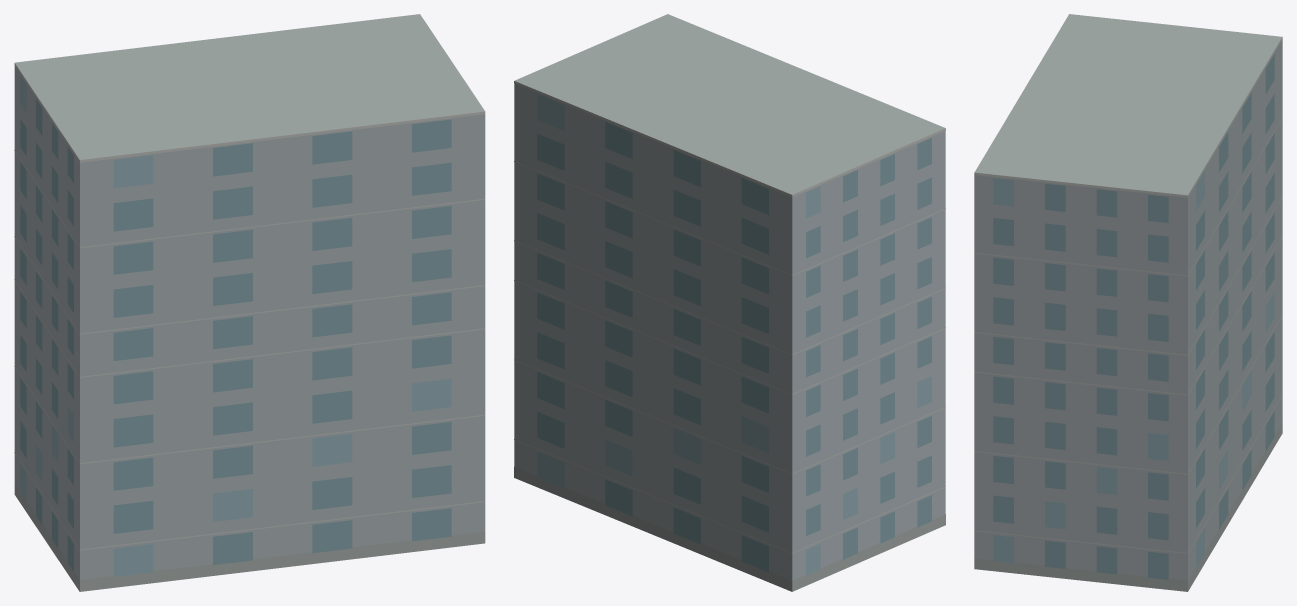
File: residential-8c71d74d-d005-4674-9d14-9aaa072aacc6.glb
The picture shows the model from 3 angles, left to right: view 1: azimuth 30°, elevation 25°; view 2: azimuth 150°, elevation 25°; view 3: azimuth 270°, elevation 25°; orthographic projection. The views are drawn at different scales.
Parts seen in each view (by area): view 1: residential-8c71d74d-d005-4674-9d14-9aaa072aacc6.tmp; view 2: residential-8c71d74d-d005-4674-9d14-9aaa072aacc6.tmp; view 3: residential-8c71d74d-d005-4674-9d14-9aaa072aacc6.tmp.
Part boxes in pixels (left/top/right/bottom): residential-8c71d74d-d005-4674-9d14-9aaa072aacc6.tmp: left=14, top=14, right=485, bottom=591; residential-8c71d74d-d005-4674-9d14-9aaa072aacc6.tmp: left=514, top=14, right=945, bottom=591; residential-8c71d74d-d005-4674-9d14-9aaa072aacc6.tmp: left=974, top=14, right=1282, bottom=591.
Size of the model in its own units: 40.25 by 41 by 28.9.
